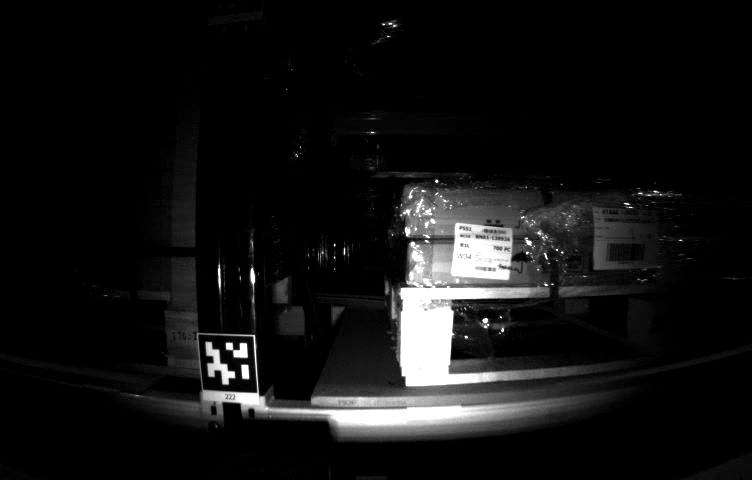True Barcode: (451, 218, 515, 286)
